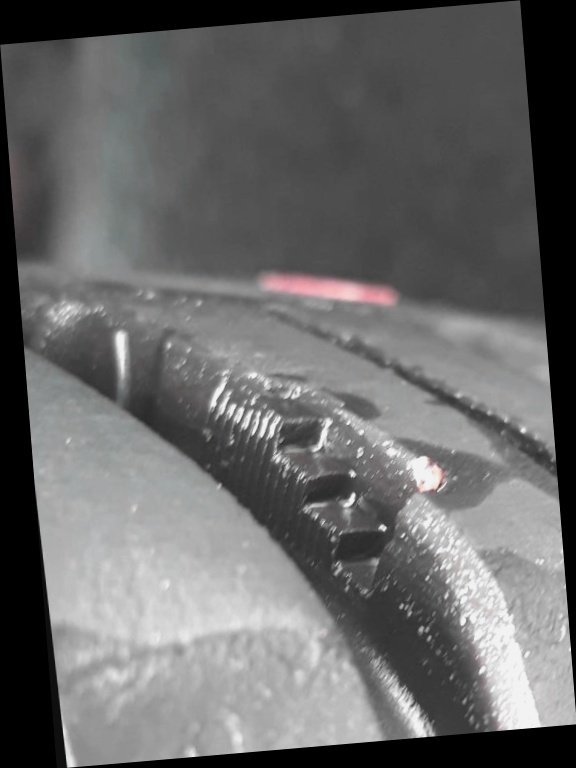temoin:80: (169, 338, 472, 640)
